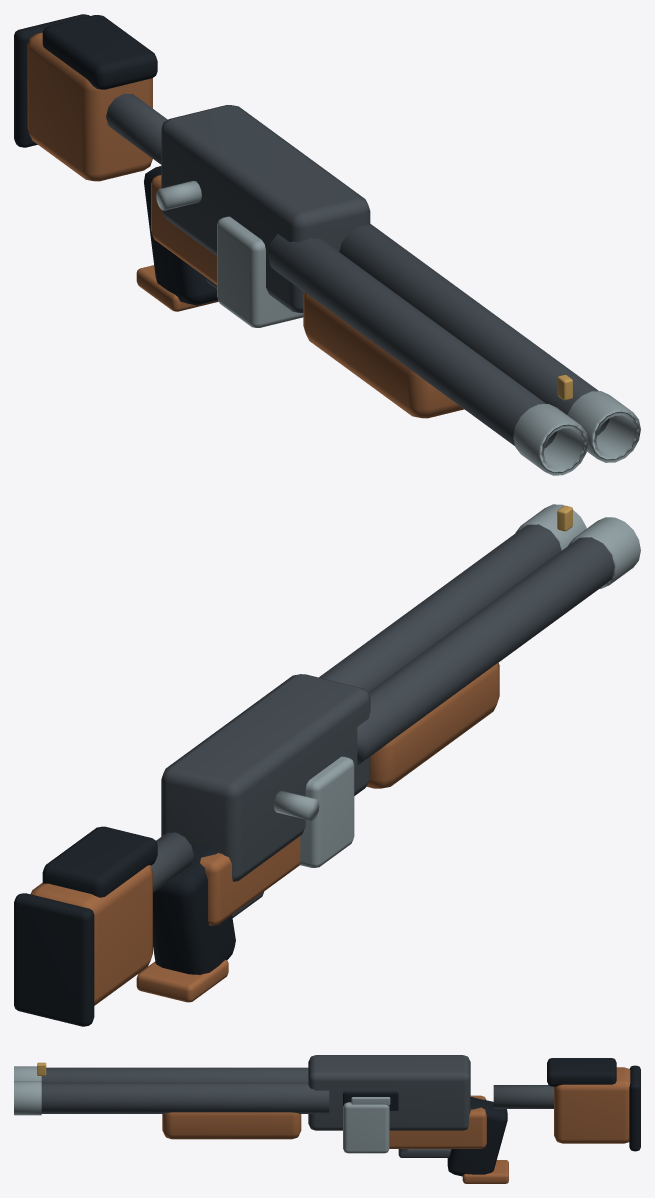
Rendered from double_barrel.glb.
3 views of the same model, one above another, from view 1: azimuth 30°, elevation 25°; view 2: azimuth 150°, elevation 25°; view 3: azimuth 270°, elevation 25° (orthographic). The views are drawn at different scales.
Visible parts, largest first — view 1: double_barrel_Cerakote graphite, double_barrel_double_barrel painted furniture, double_barrel_Machined edges, double_barrel_Recesses and rubber; view 2: double_barrel_Cerakote graphite, double_barrel_Recesses and rubber, double_barrel_double_barrel painted furniture, double_barrel_Machined edges; view 3: double_barrel_Cerakote graphite, double_barrel_double_barrel painted furniture, double_barrel_Recesses and rubber, double_barrel_Machined edges.
Part boxes in pixels (x1,y1,x2,y2): double_barrel_Cerakote graphite: (106, 93, 609, 447); double_barrel_double_barrel painted furniture: (27, 32, 464, 418); double_barrel_Machined edges: (156, 180, 640, 475); double_barrel_Recesses and rubber: (14, 14, 217, 305); double_barrel_Cerakote graphite: (151, 524, 614, 917); double_barrel_Recesses and rubber: (14, 826, 235, 1026); double_barrel_double_barrel painted furniture: (30, 662, 499, 1005); double_barrel_Machined edges: (273, 504, 640, 867); double_barrel_Cerakote graphite: (41, 1055, 553, 1157); double_barrel_double_barrel painted furniture: (162, 1067, 630, 1183); double_barrel_Recesses and rubber: (343, 1058, 640, 1176); double_barrel_Machined edges: (14, 1066, 390, 1153).
Size of the model in its own units: 0.1387 by 0.2029 by 1.01.
